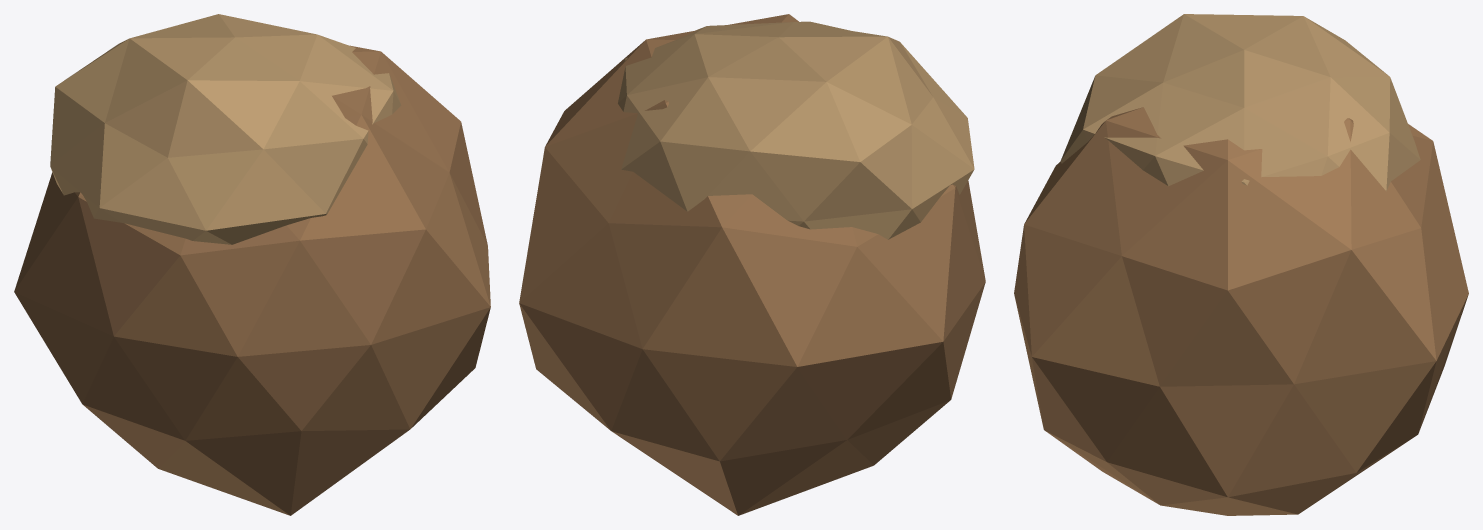
The model's file is desert-rock-1.glb.
The picture shows the model from 3 angles, left to right: view 1: azimuth 30°, elevation 25°; view 2: azimuth 150°, elevation 25°; view 3: azimuth 270°, elevation 25°; orthographic projection. The views are drawn at different scales.
Parts seen in each view (by area): view 1: desert-rock-1; view 2: desert-rock-1; view 3: desert-rock-1.
Boxes of the visible parts, x1,y1,x2,y2 form: desert-rock-1: (14,14,490,515); desert-rock-1: (519,14,985,515); desert-rock-1: (1014,14,1468,515).
Size of the model in its own units: 1.47 by 1.54 by 1.4.
